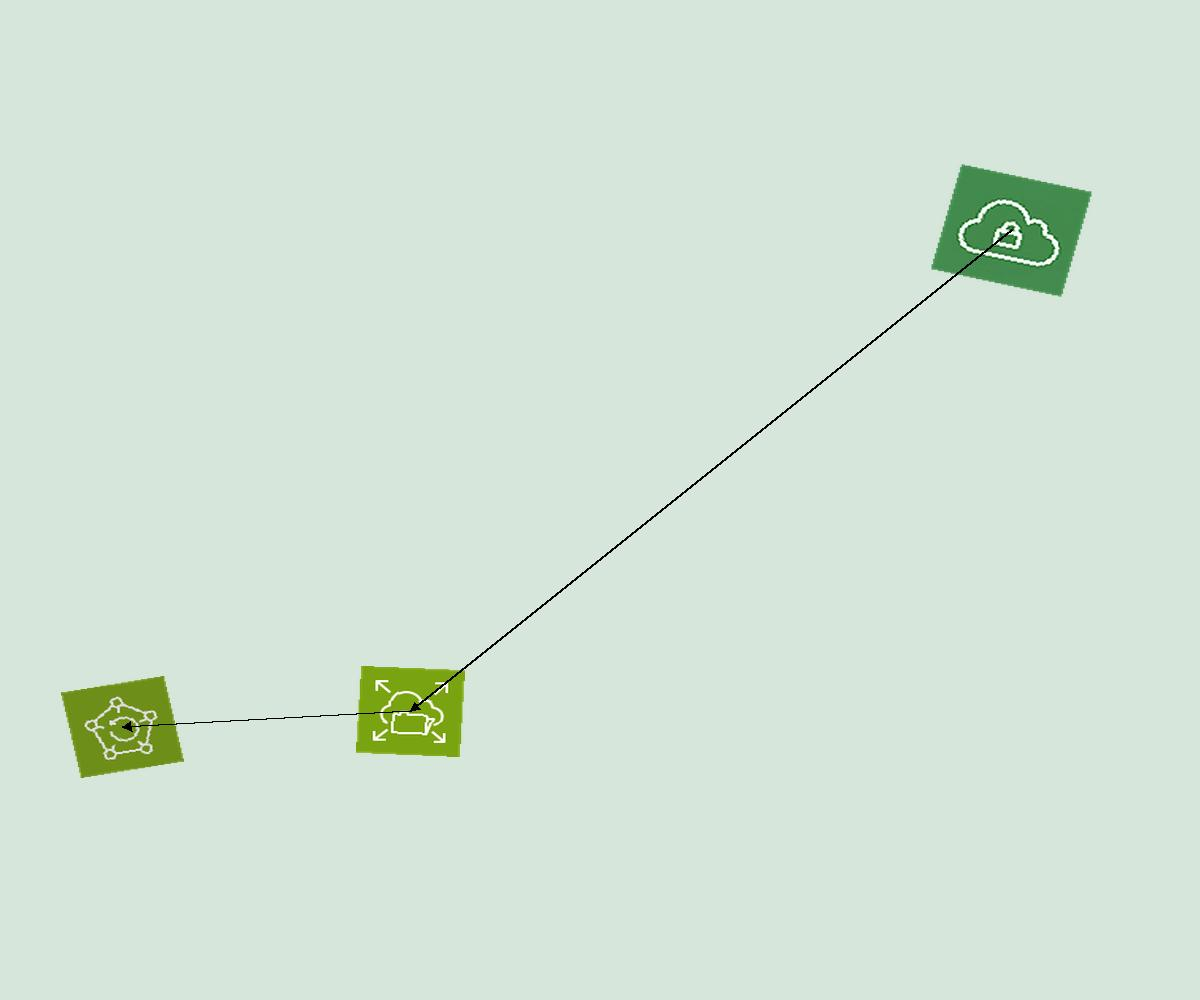AWS-Backup: (61, 676, 184, 778)
AWS-EFS: (356, 666, 465, 757)
AWS-Private_vpc: (930, 163, 1093, 298)
